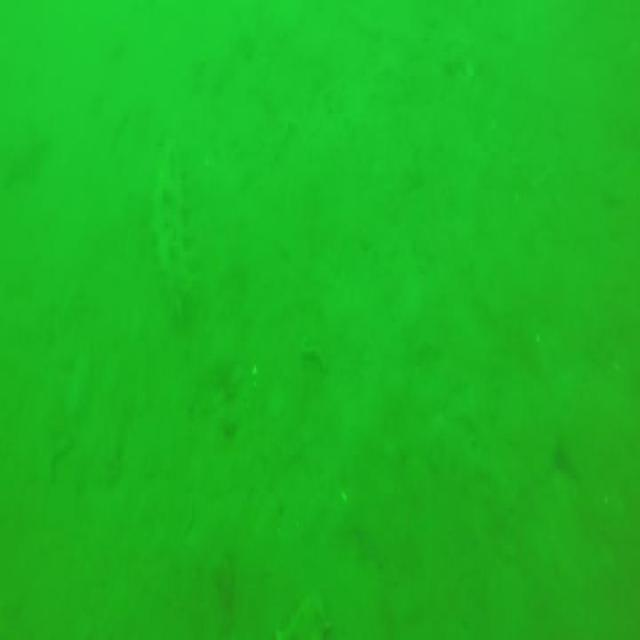holothurian: (142, 148, 200, 314)
